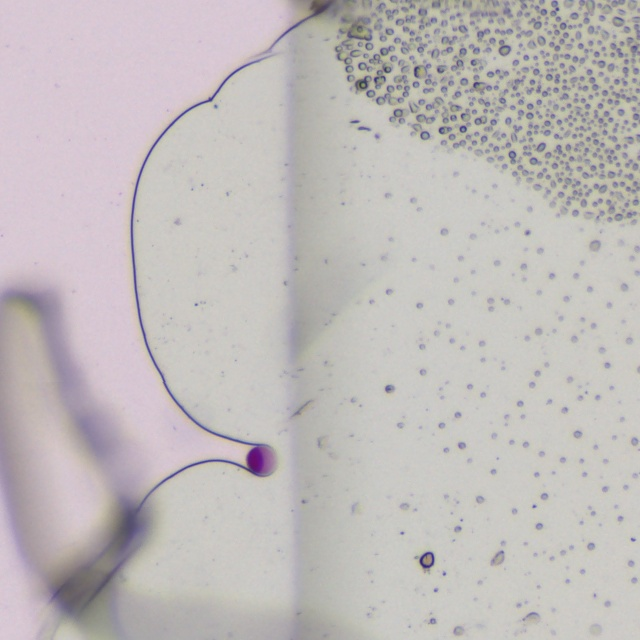viable: (247, 447, 275, 473)
